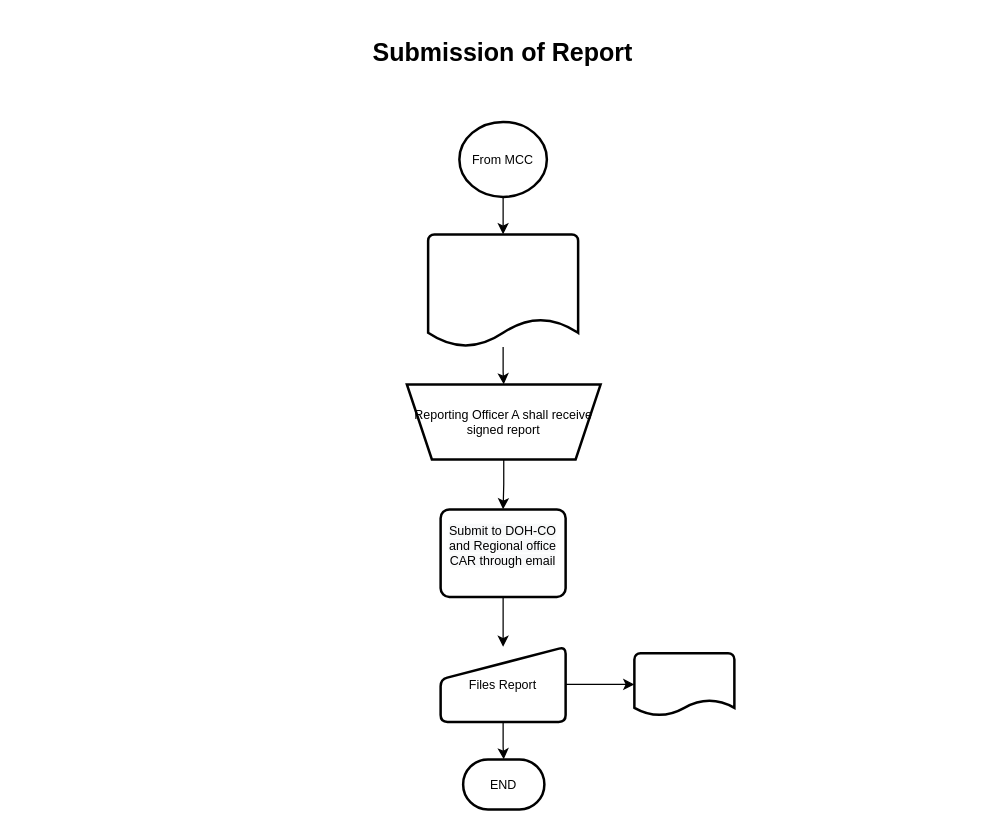
Some shapes in this 1005 by 831 pixel diagram are drawn without their labels. Here are the shapes that lost their labels. From the top down, the centre of each, then its label:
At pixel 502 290: "Statement of Allotment, Obligations, Balance and Disbursements (SAOBD)".
At pixel 683 683: "Hard copy signed SAOBD".
